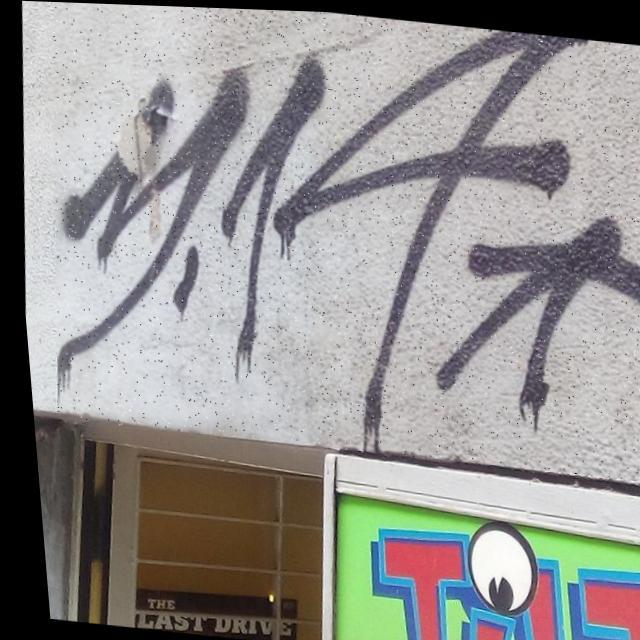-: (23, 1, 640, 478)
